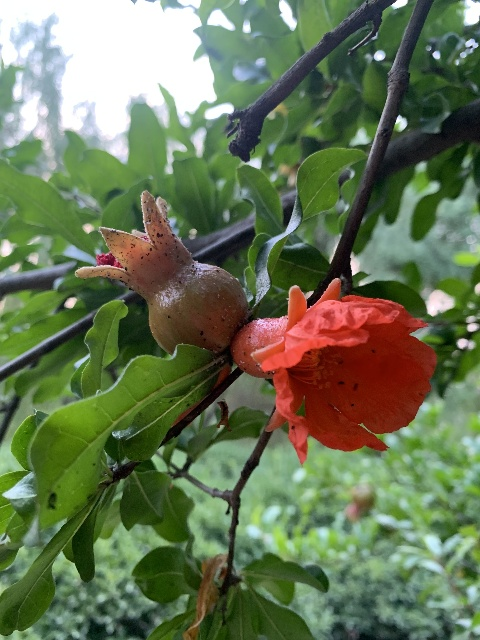early-fruit: (74, 190, 246, 358)
flower: (230, 277, 437, 463)
